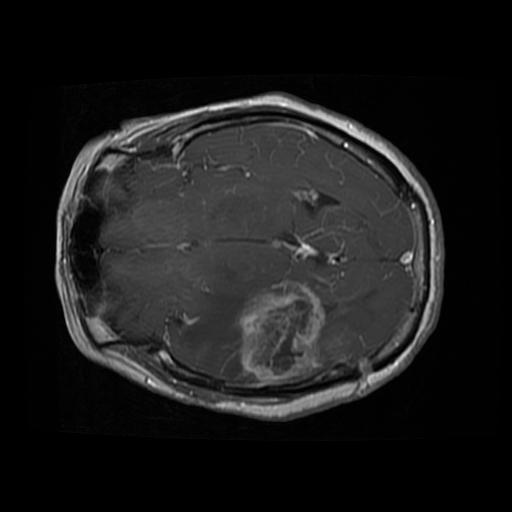glioma: (236, 278, 323, 383)
